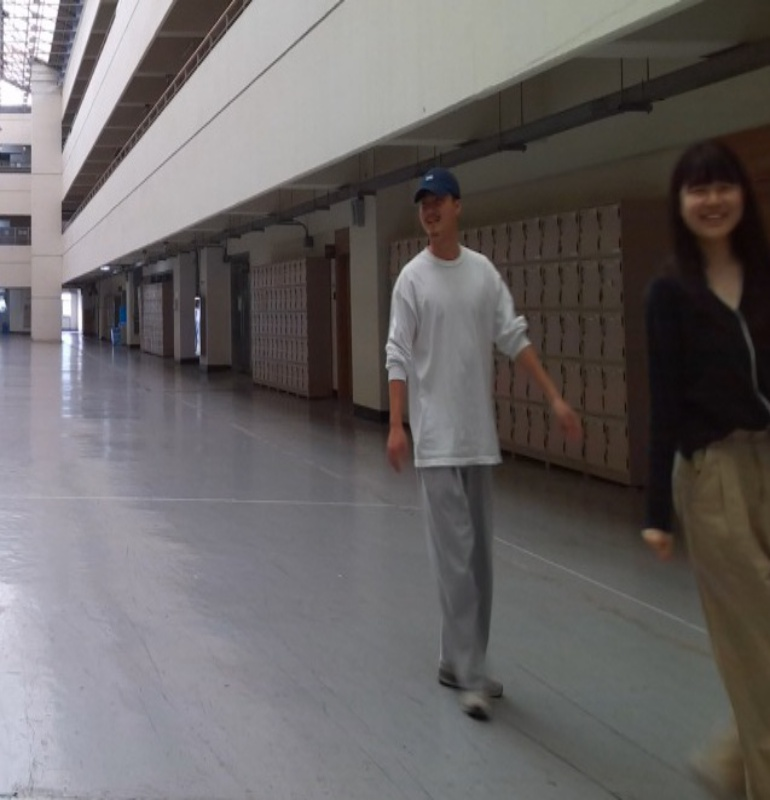person: (384, 167, 580, 722)
